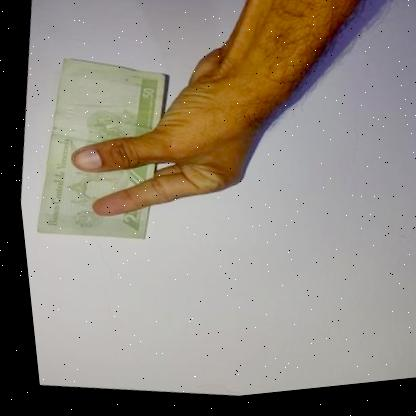fifty-back-vef: (16, 48, 179, 253)
